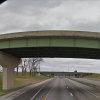Bridge: (2, 25, 97, 71)
